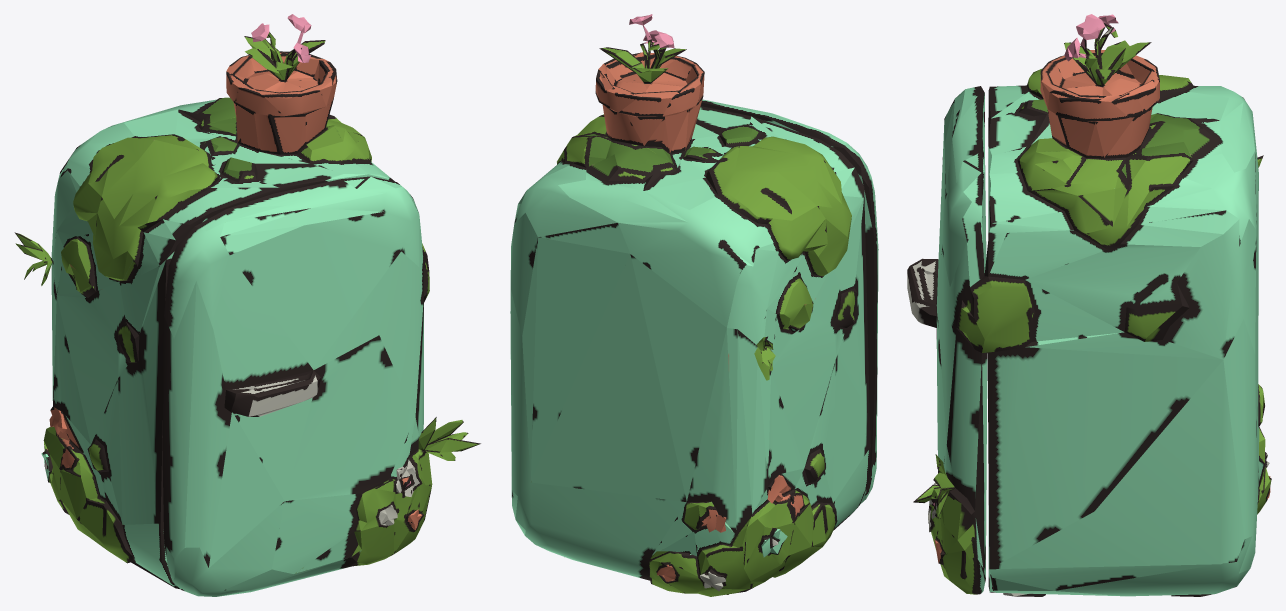
The model's file is geladeira.gltf.
3 views of the same model, side by side, from view 1: azimuth 30°, elevation 25°; view 2: azimuth 150°, elevation 25°; view 3: azimuth 270°, elevation 25° (orthographic). The views are drawn at different scales.
Visible parts, largest first — view 1: geladeira; view 2: geladeira; view 3: geladeira.
Part boxes in pixels (x1,y1,x2,y2): geladeira: (14, 14, 480, 596); geladeira: (510, 14, 878, 596); geladeira: (907, 14, 1271, 596).
Bounding box in the file's own units: 1.19 × 1.9 × 1.11.
Materials: 1 (1 with a texture image).
